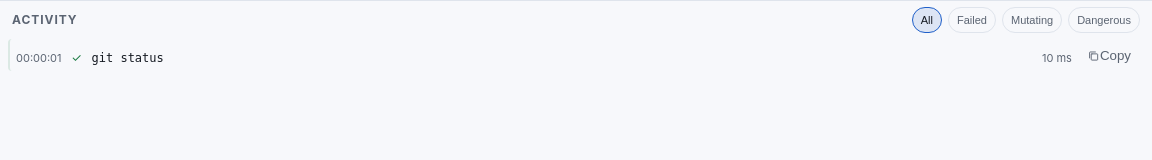
Test: the active chip is pressed and an empty filter says so
Step 1. Click the button "Dangerous" → coordinates (1104, 20), box [1068, 7, 1140, 33]
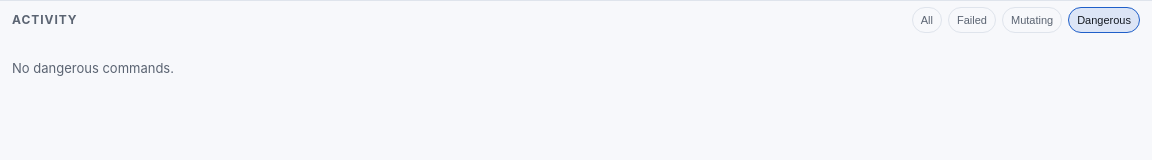
expect the text "No dangerous commands." is shown: met, box [12, 60, 174, 76]
